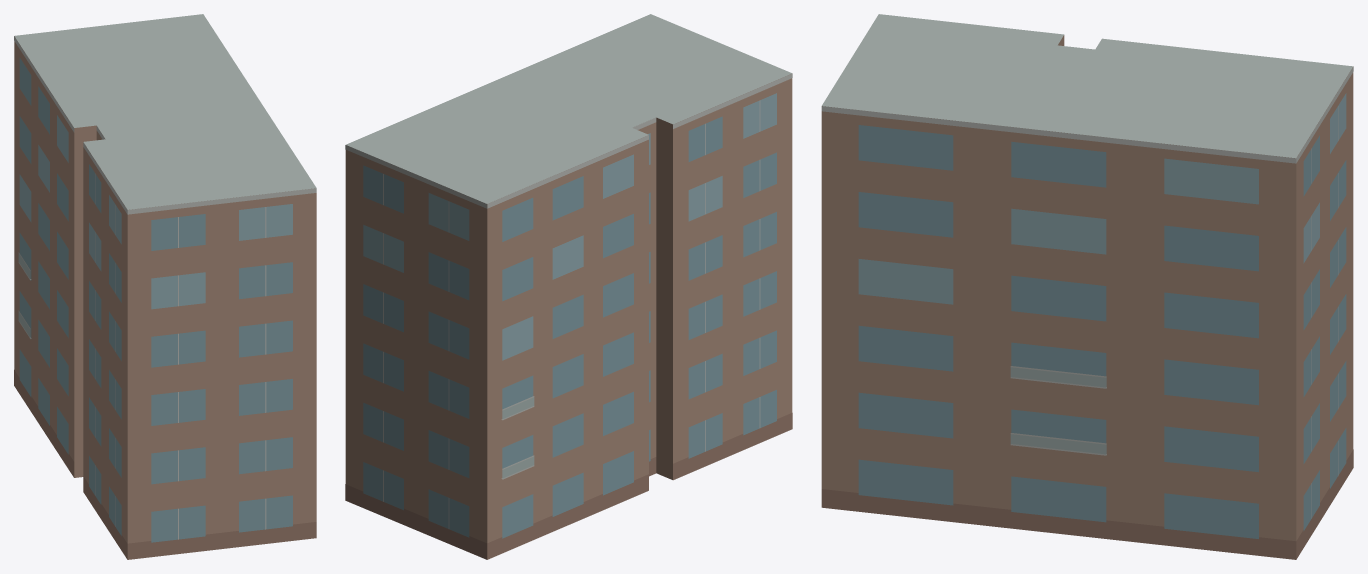
File: survey-upis-33016967.glb
3 renders of one model, left to right at view 1: azimuth 30°, elevation 25°; view 2: azimuth 150°, elevation 25°; view 3: azimuth 270°, elevation 25°, orthographic. The views are drawn at different scales.
Parts seen in each view (by area): view 1: survey-upis-33016967.tmp; view 2: survey-upis-33016967.tmp; view 3: survey-upis-33016967.tmp.
Part boxes in pixels (bbox=[...]): survey-upis-33016967.tmp: bbox=[14, 14, 316, 559]; survey-upis-33016967.tmp: bbox=[345, 14, 792, 559]; survey-upis-33016967.tmp: bbox=[821, 14, 1353, 559].
Size of the model in its own units: 14.11 by 18.3 by 21.97.
